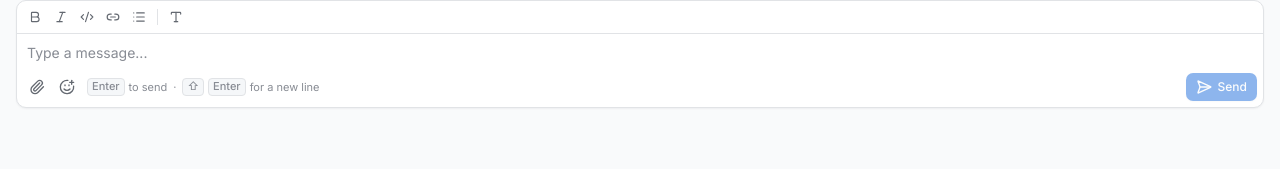
Test: running a slash command › surfaces the server's refusal instead of failing silently
Type "/" into the text box.
click(640, 53); type("/")  # box [17, 34, 1263, 73]
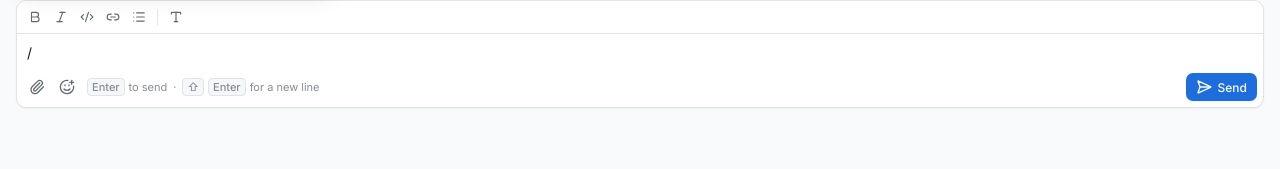
Replace the text in the text box with "/weather London" at (640, 54), box [17, 34, 1263, 73]
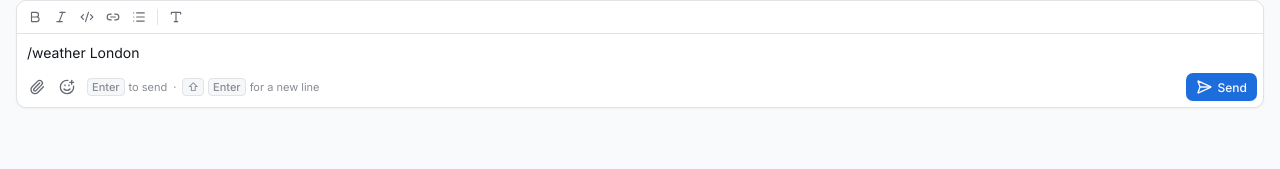
Click the button "Send".
click(1221, 87)  # box [1186, 73, 1257, 101]
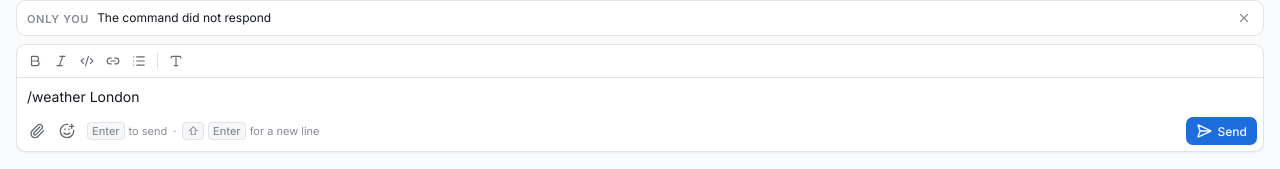
Expected: the text "The command did not respond" is shown, [97, 10, 271, 25]
